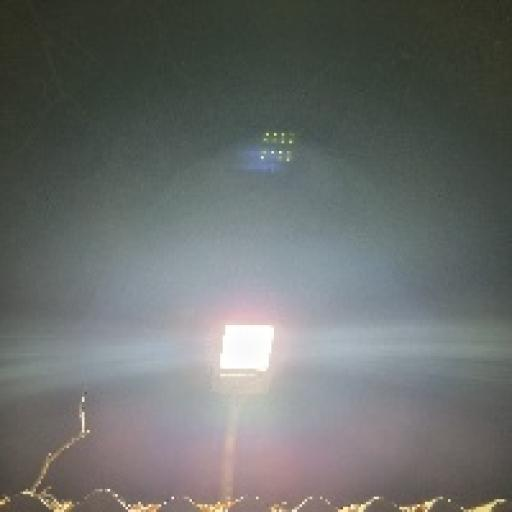Working: (206, 307, 292, 401)
